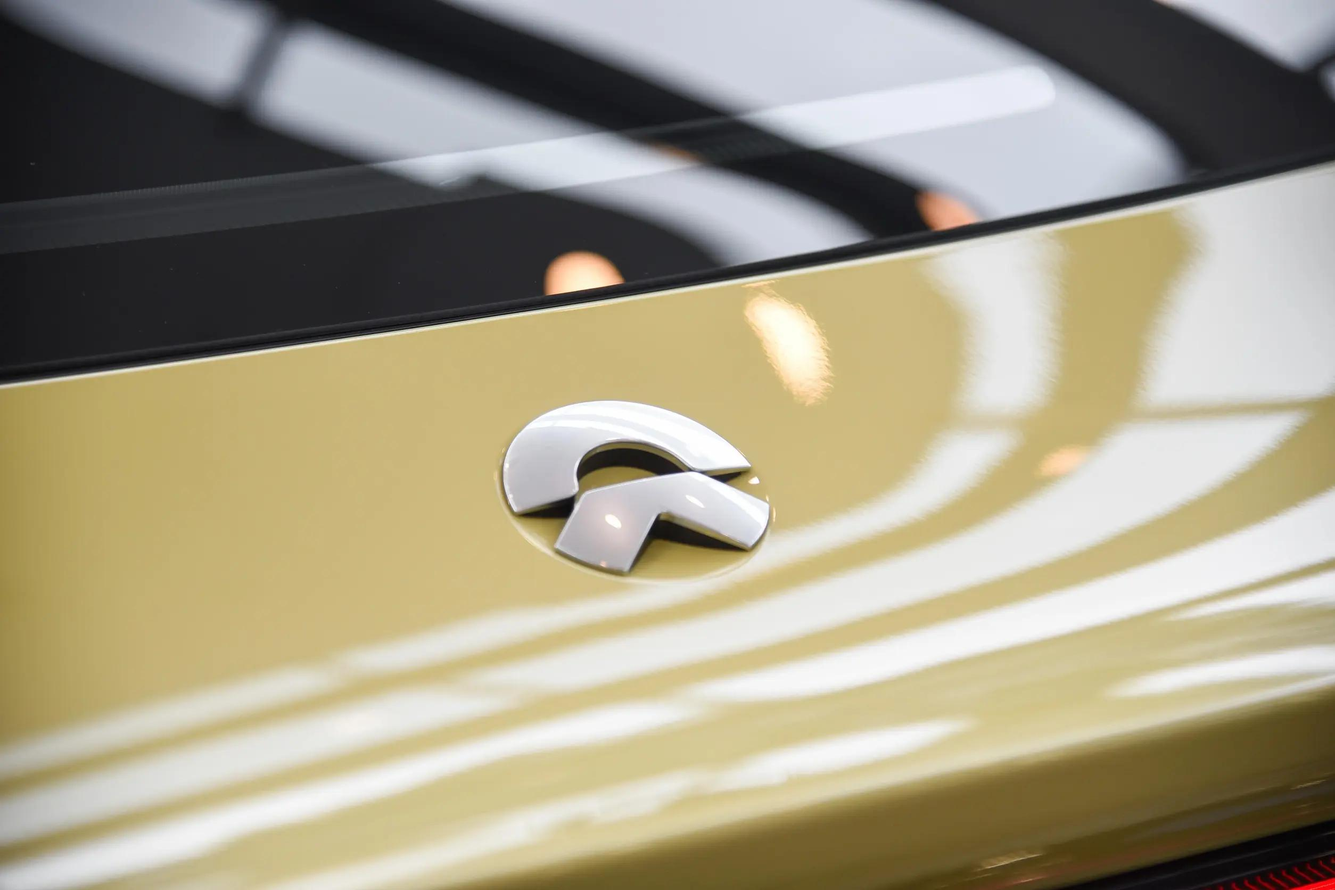NIO: (505, 400, 769, 577)
